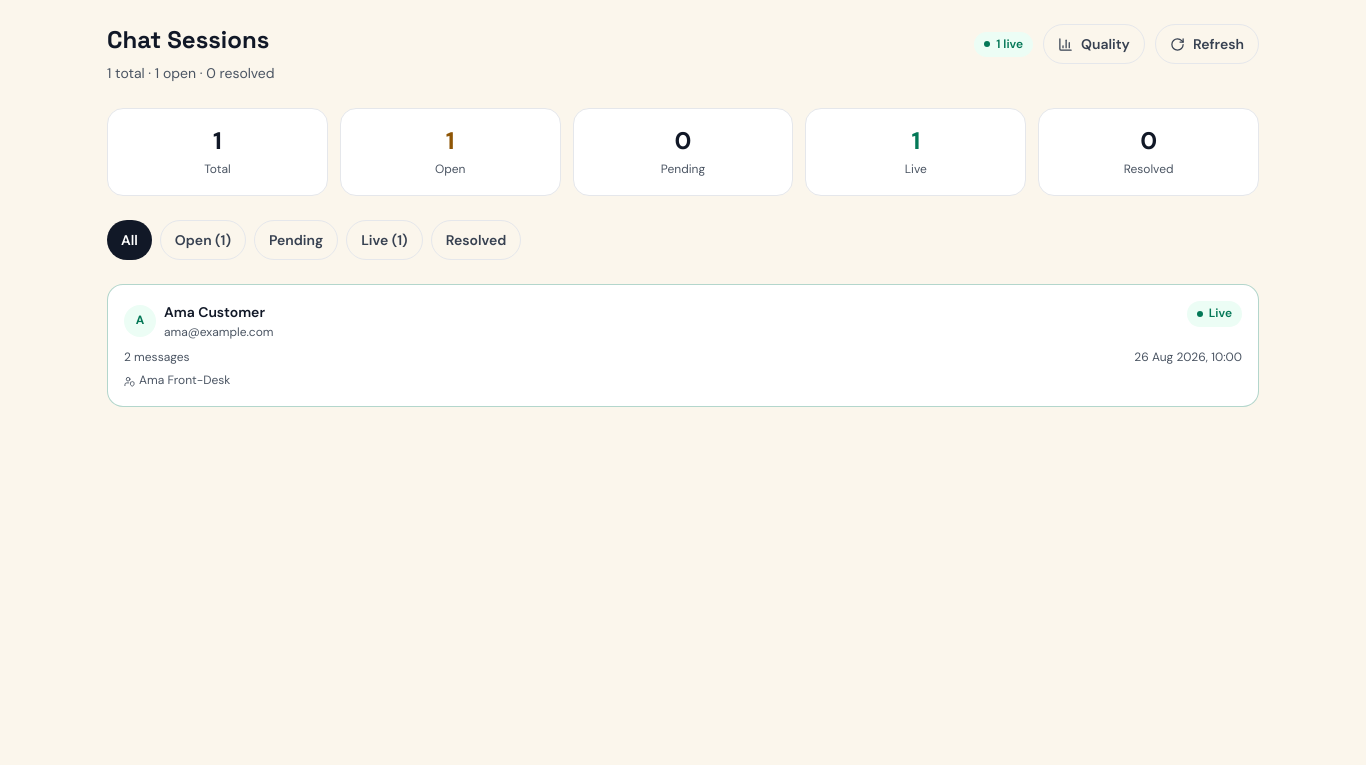
chat console — quality panel (T69) › shows metrics to an admin on demand
The image size is (1366, 765).
Click the button "Quality" at (1094,44), box [1043,24,1145,64]
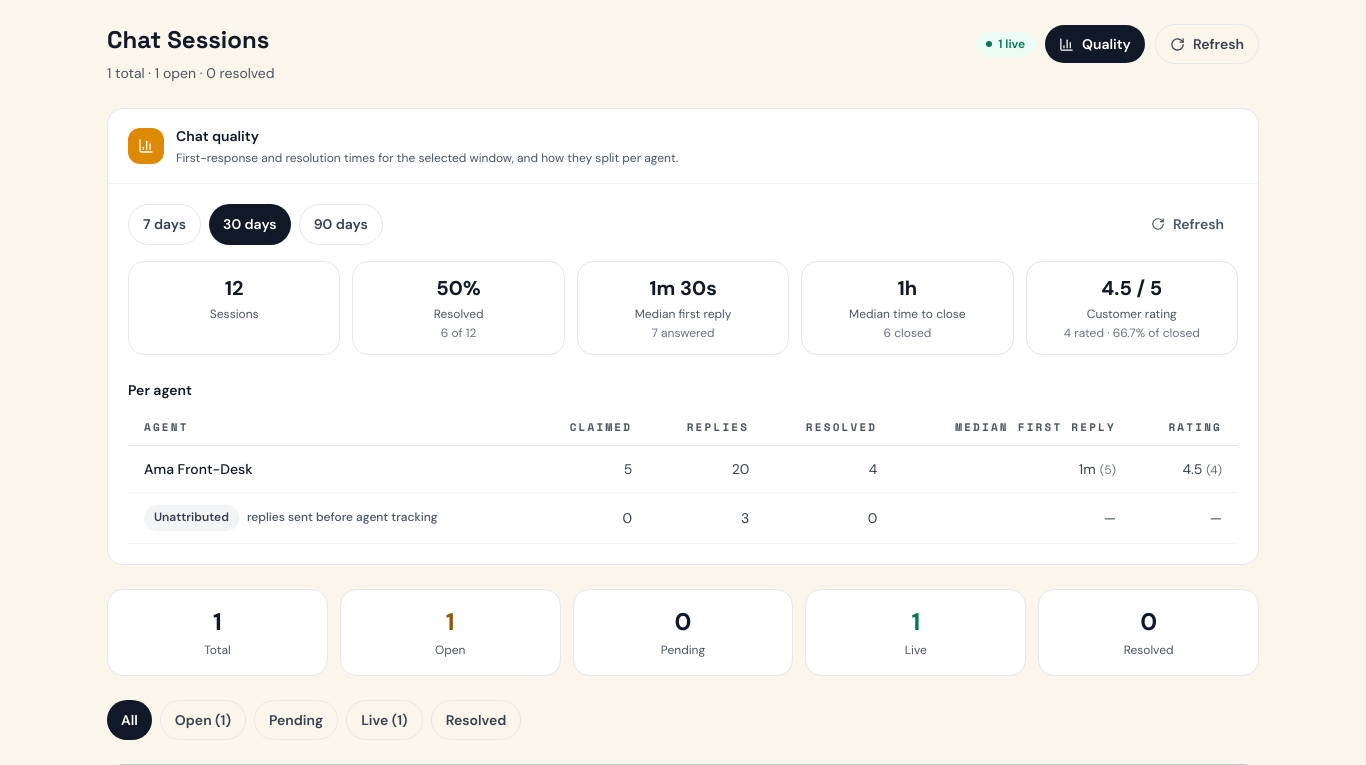
Expected: the text "50%" is shown, [436,275,481,301]
Expected: the text "1m 30s" is shown, [649,275,717,301]
Expected: the text "1h" is shown, [898,275,917,301]
